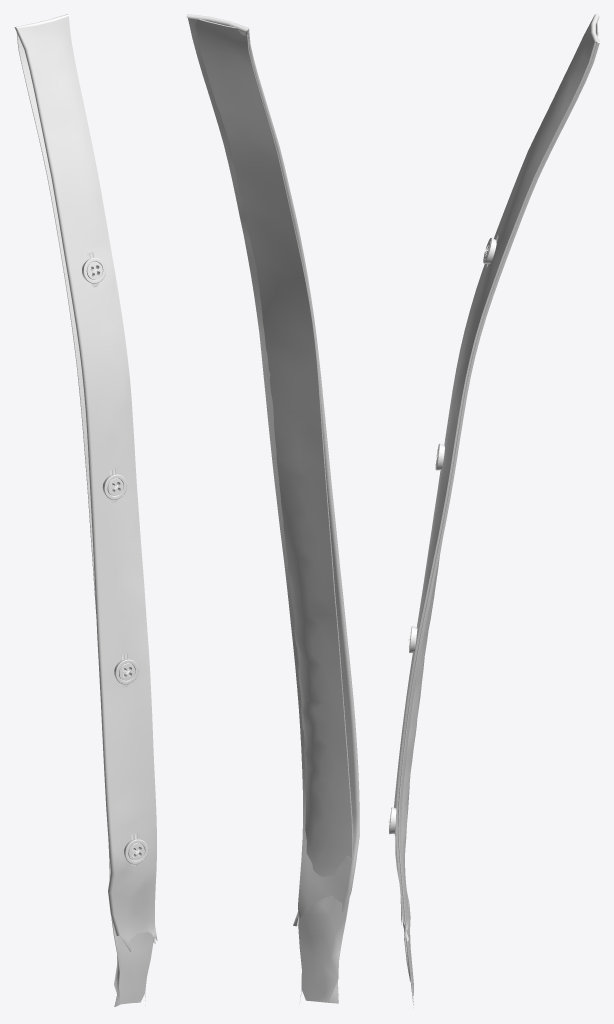
The model's file is Wide_Front_Placket.glb.
3 renders of one model, left to right at view 1: azimuth 30°, elevation 25°; view 2: azimuth 150°, elevation 25°; view 3: azimuth 270°, elevation 25°, orthographic. The views are drawn at different scales.
Parts seen in each view (by area): view 1: Wide_Front_placket_Node001, Wide_Front_placket_Node, button004, button001, button002, button001.001; view 2: Wide_Front_placket_Node, Wide_Front_placket_Node001; view 3: Wide_Front_placket_Node001, Wide_Front_placket_Node.
Boxes of the visible parts, x1,y1,x2,y2 form: Wide_Front_placket_Node001: (14,14,157,951); Wide_Front_placket_Node: (16,33,153,1006); button004: (82,258,105,283); button001: (114,659,138,684); button002: (102,474,126,499); button001.001: (124,839,148,864); Wide_Front_placket_Node: (195,19,352,1003); Wide_Front_placket_Node001: (186,14,359,926); Wide_Front_placket_Node001: (394,14,599,941); Wide_Front_placket_Node: (398,21,598,1005).
Size of the model in its own units: 3.13 by 50.06 by 9.87.
Materials: 9 (3 with a texture image).
